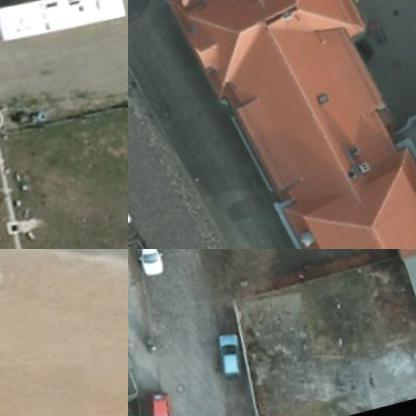camping car: (0, 0, 127, 50)
car: (204, 334, 244, 384), (130, 382, 173, 415), (128, 249, 163, 283)
